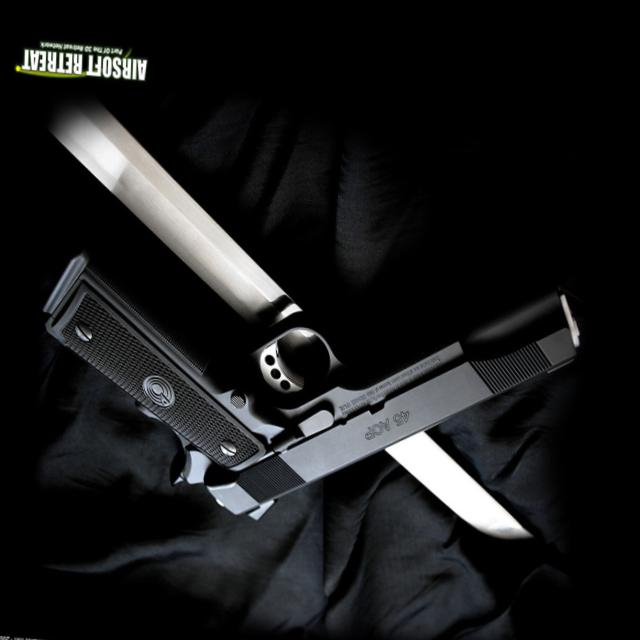handgun: (37, 218, 589, 544)
